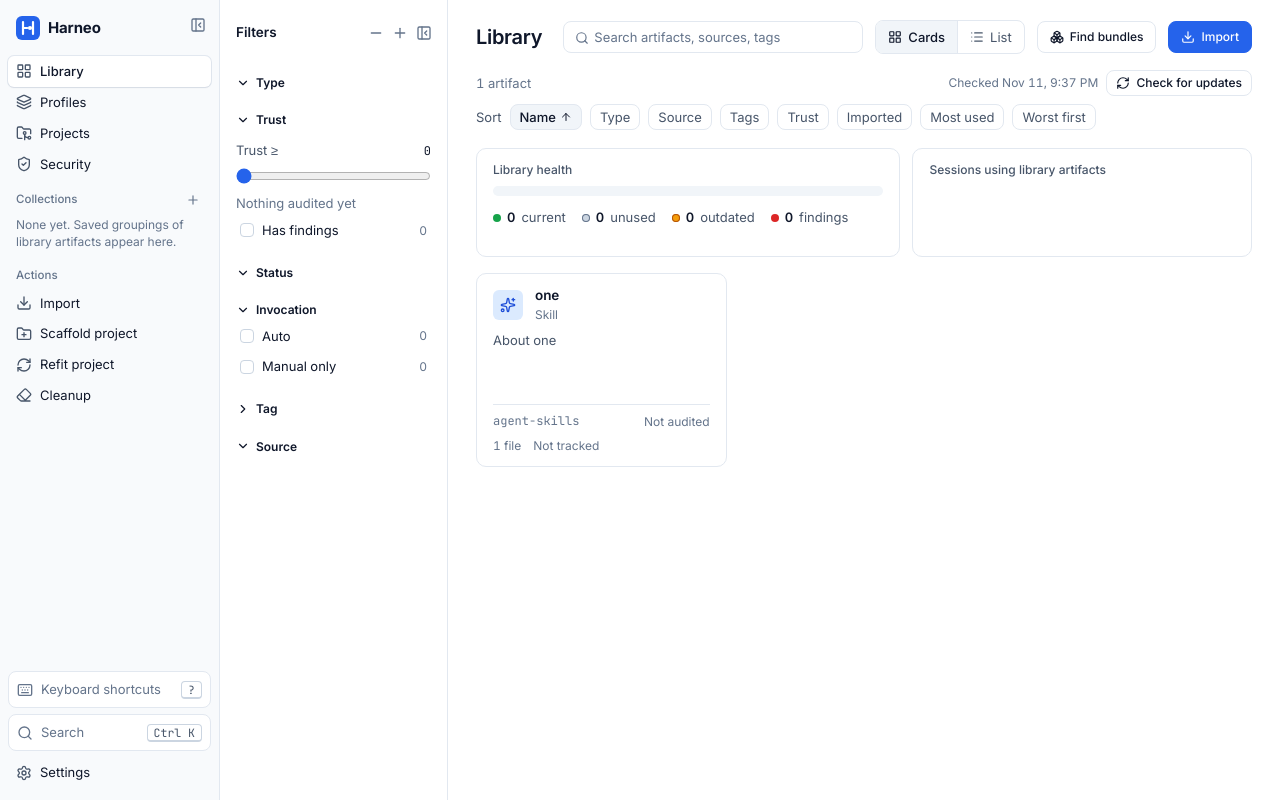
Test case: routing › sidebar entry Projects routes to its screen
Click the link "Projects": (53, 133) [16, 125, 90, 141]
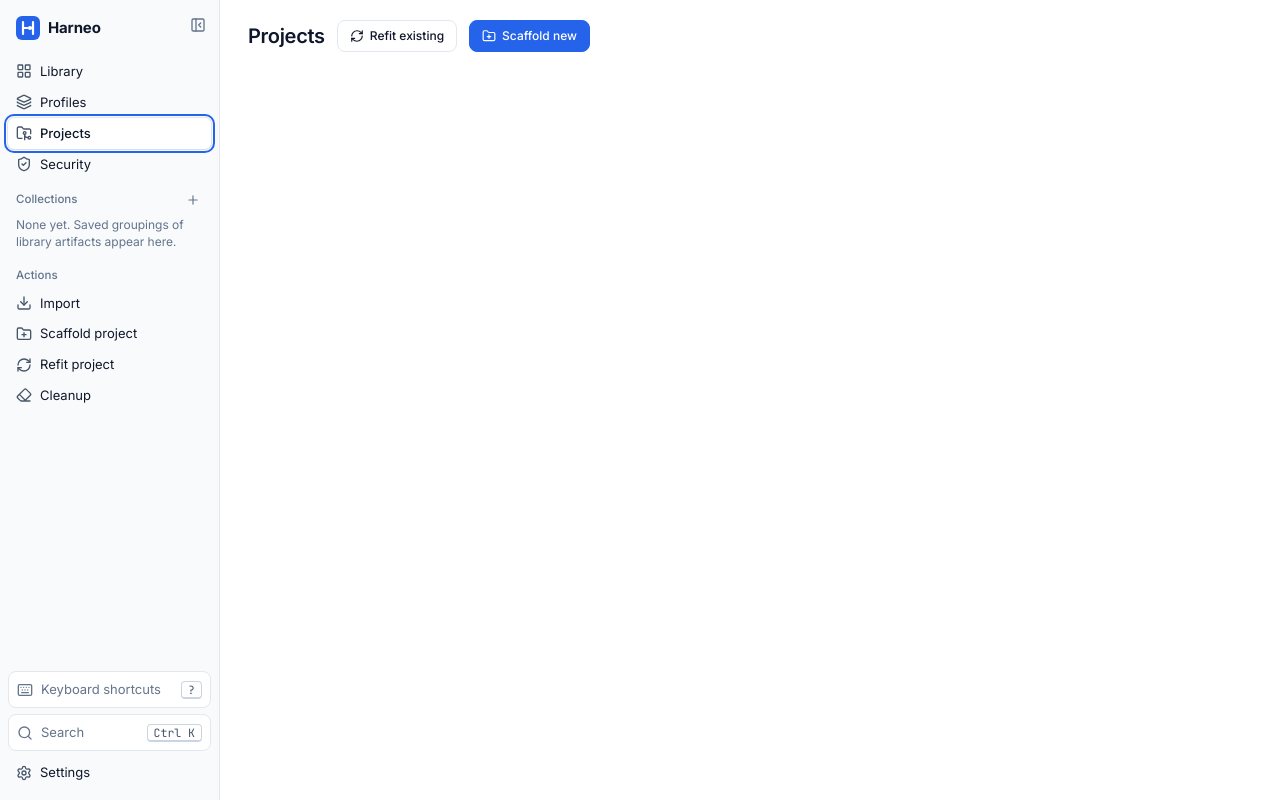
Expected: the heading "Projects" is shown, [248, 22, 325, 50]
